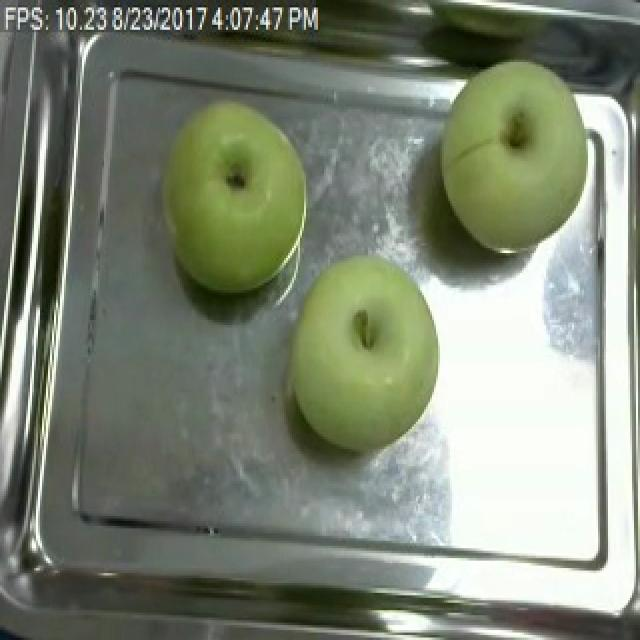50-_ripeness: (276, 248, 447, 463), (151, 93, 307, 305), (447, 62, 594, 267)
